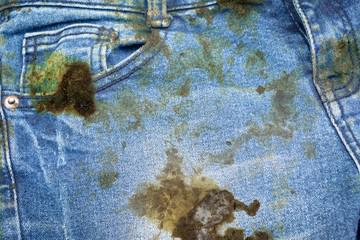gun: (127, 151, 270, 239), (193, 0, 269, 78), (24, 57, 100, 124), (255, 72, 317, 152), (109, 0, 172, 54), (84, 86, 161, 128), (314, 35, 357, 87), (170, 103, 200, 143), (219, 118, 255, 150), (161, 63, 195, 94), (97, 148, 121, 190), (130, 63, 155, 84), (288, 187, 296, 196)
